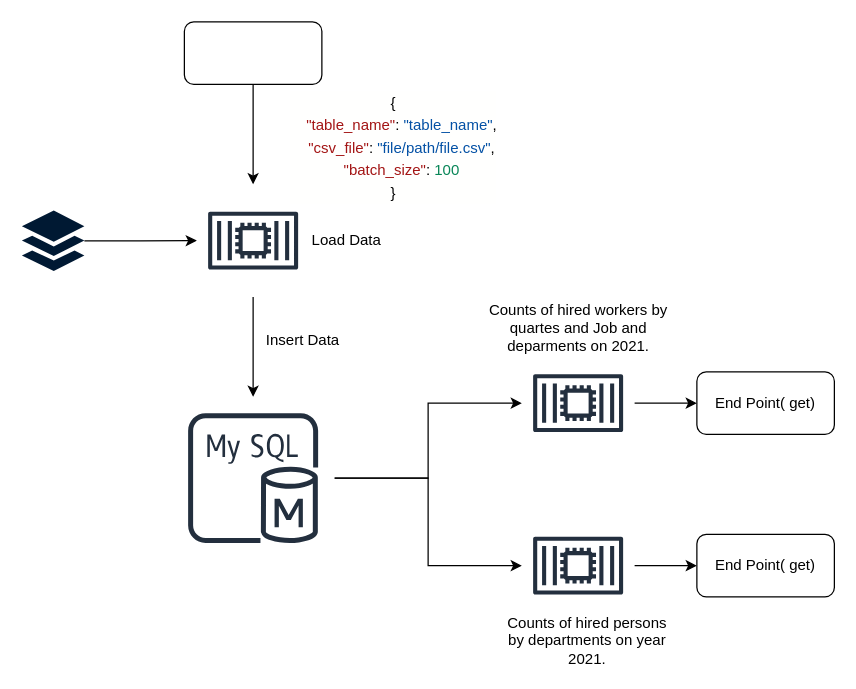
This 856x689 diagram has some shape labels left out. The box of each missing label's shape, as (x1, y1, x2, y2) in pixels:
Client Request (Post request): (183, 21, 322, 84)
MySQL DB instance: (171, 396, 334, 559)
